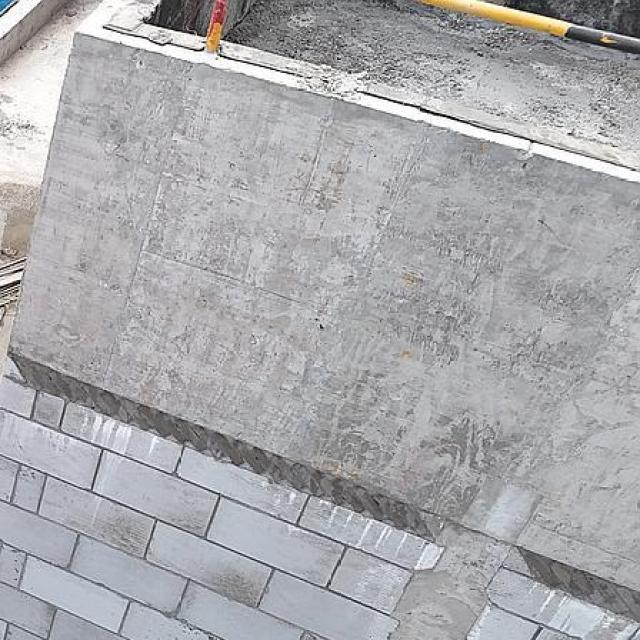edge_guardrail: (408, 0, 640, 54), (203, 0, 226, 54)
